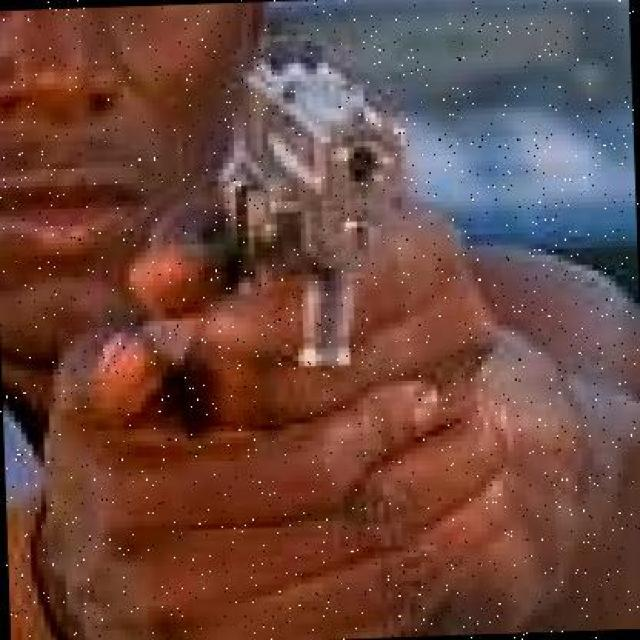rifle: (224, 28, 419, 386)
